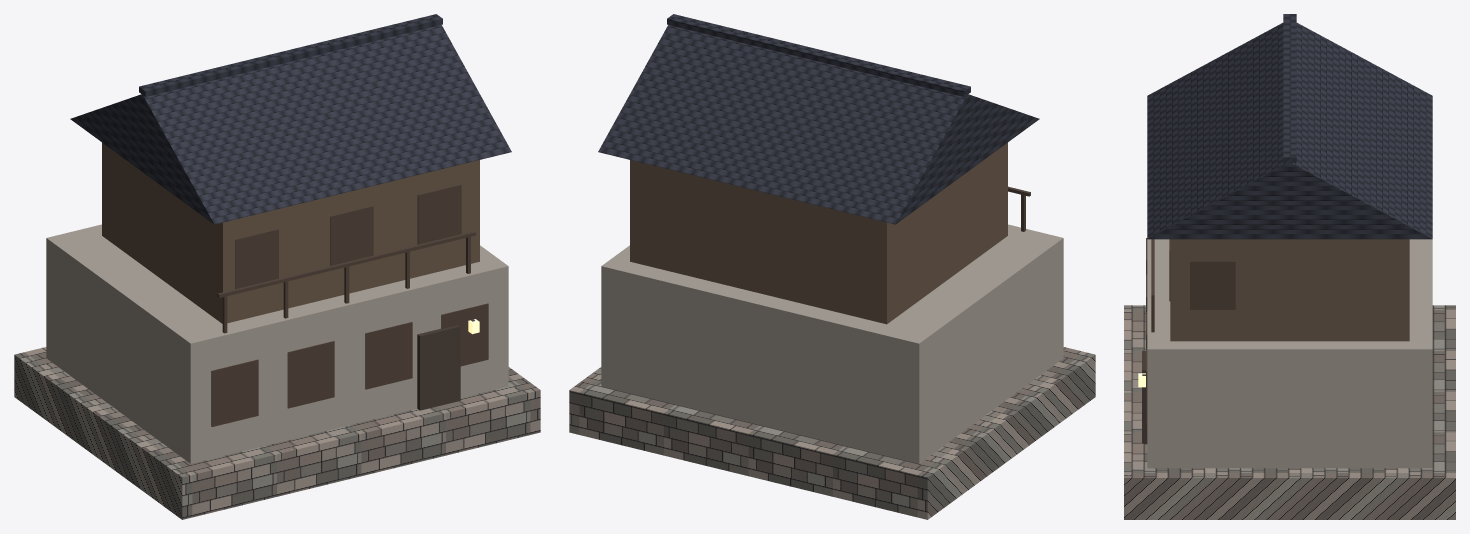
Rendered from cl-house-b.glb.
3 renders of one model, left to right at view 1: azimuth 30°, elevation 25°; view 2: azimuth 150°, elevation 25°; view 3: azimuth 270°, elevation 25°, orthographic.
Visible parts, largest first — view 1: cl_house_b; view 2: cl_house_b; view 3: cl_house_b.
Boxes of the visible parts, <box> form: cl_house_b: <box>14,14,540,519</box>; cl_house_b: <box>569,14,1095,519</box>; cl_house_b: <box>1124,14,1455,519</box>.
Size of the model in its own units: 10.6 by 10.14 by 8.6.
10 materials, 2 textured.
